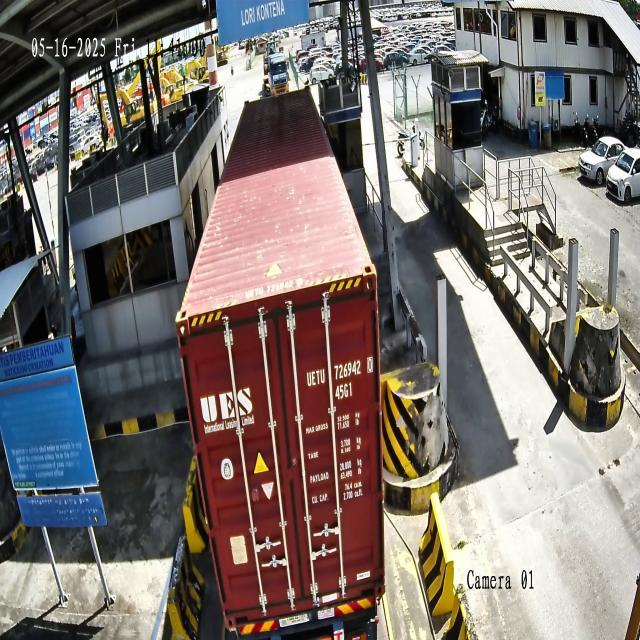ISO: (335, 382, 353, 402)
container_number: (305, 356, 373, 388)
